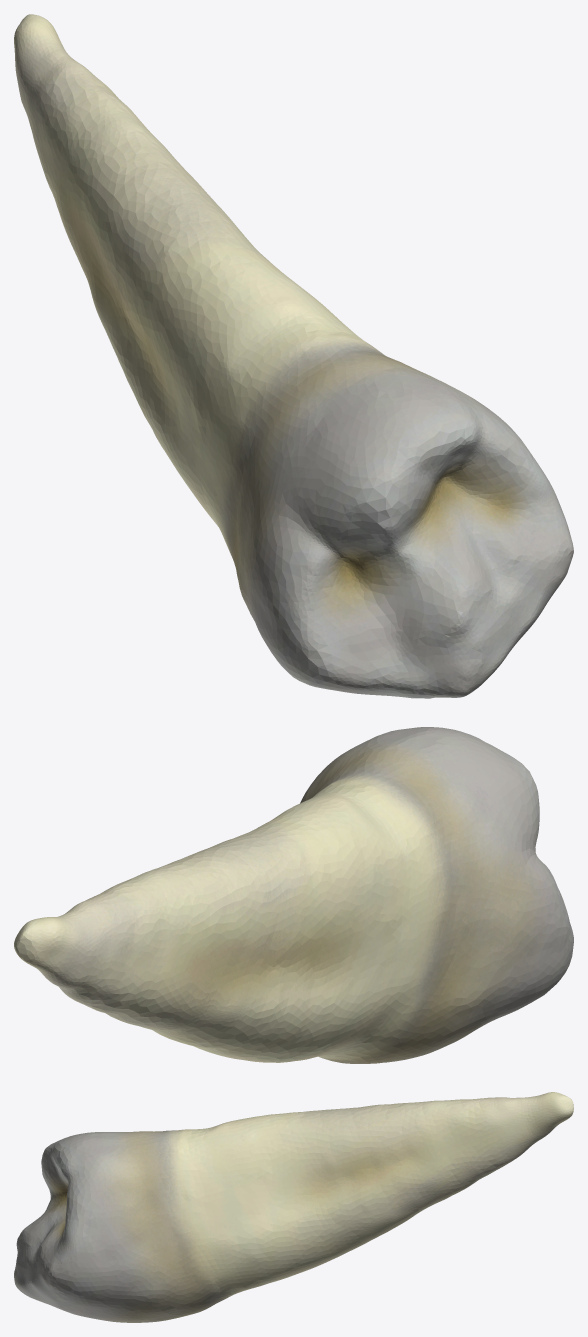
Rendered from 44 quiz.glb.
3 views of the same model, one above another, from view 1: azimuth 30°, elevation 25°; view 2: azimuth 150°, elevation 25°; view 3: azimuth 270°, elevation 25° (orthographic). The views are drawn at different scales.
Parts seen in each view (by area): view 1: 3MFMeshParent_0; view 2: 3MFMeshParent_0; view 3: 3MFMeshParent_0.
Boxes of the visible parts, <box> form: 3MFMeshParent_0: <box>14,14,573,698</box>; 3MFMeshParent_0: <box>14,727,573,1063</box>; 3MFMeshParent_0: <box>14,1092,573,1322</box>.
Bounding box in the file's own units: 0.176 × 0.2293 × 0.512.
1 material, 1 textured.
